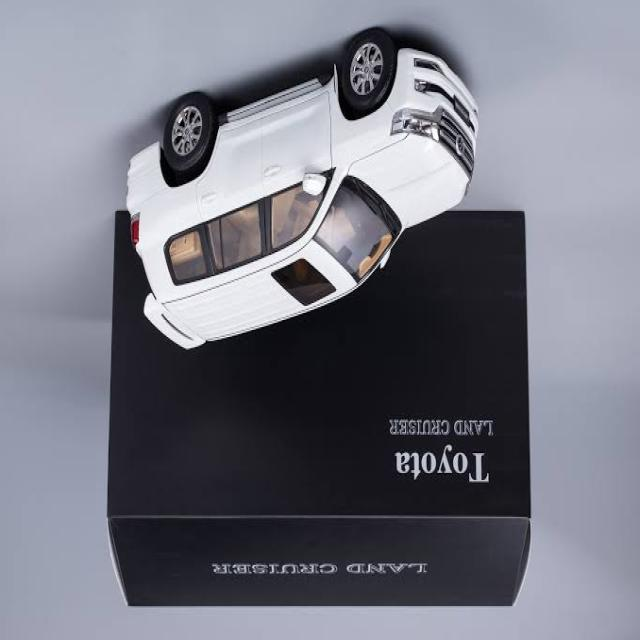Car: (127, 28, 480, 351)
